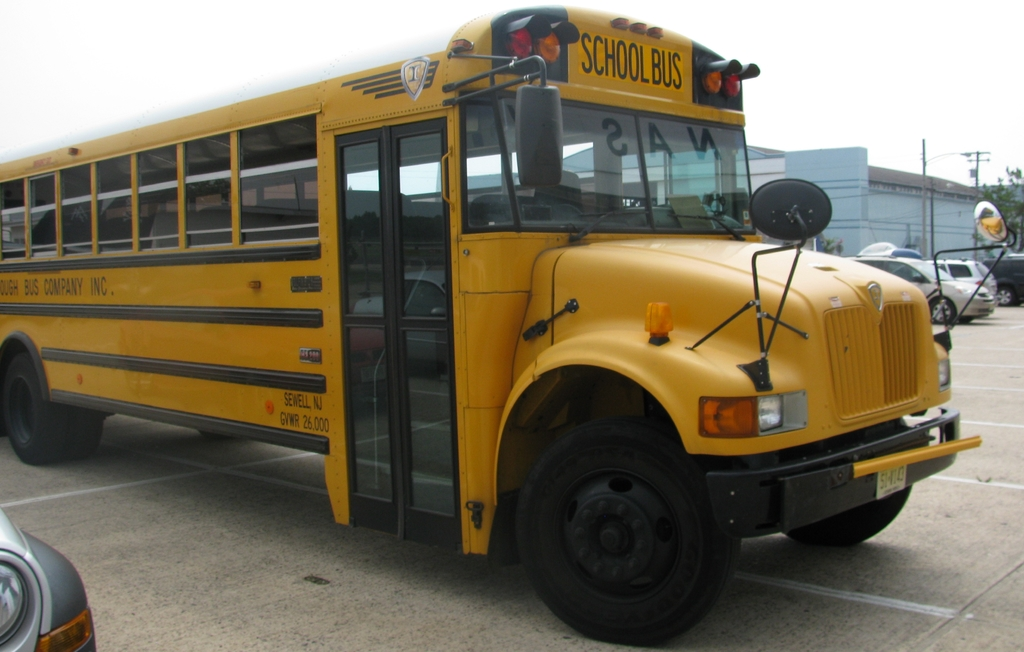Bus: (0, 8, 1017, 644)
